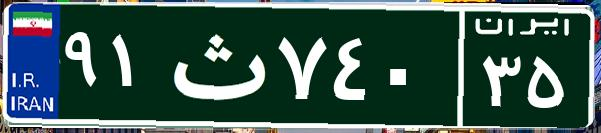0: (385, 28, 445, 110)
1: (110, 28, 158, 105)
3: (475, 38, 525, 113)
4: (330, 28, 385, 110)
5: (525, 38, 570, 115)
7: (273, 28, 330, 110)
9: (57, 26, 110, 107)
ث: (158, 15, 273, 115)
